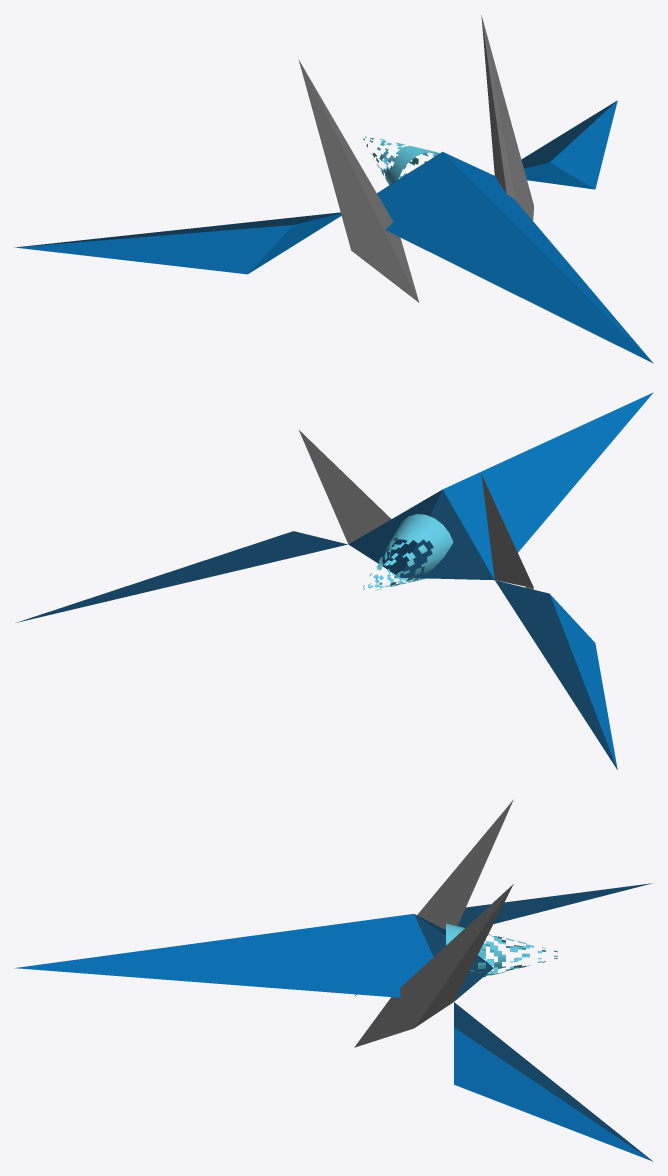
The model's file is Ship.obj.
The picture shows the model from 3 angles, top to bottom: view 1: azimuth 30°, elevation 25°; view 2: azimuth 150°, elevation 25°; view 3: azimuth 270°, elevation 25°; orthographic projection. The views are drawn at different scales.
Parts seen in each view (by area): view 1: Cylinder_0; view 2: Cylinder_0; view 3: Cylinder_0.
Part boxes in pixels (x1,y1,x2,y2): Cylinder_0: [14, 15, 653, 363]; Cylinder_0: [16, 392, 653, 769]; Cylinder_0: [14, 800, 652, 1161].
Bounding box in the file's own units: 4.12 × 1.25 × 4.
